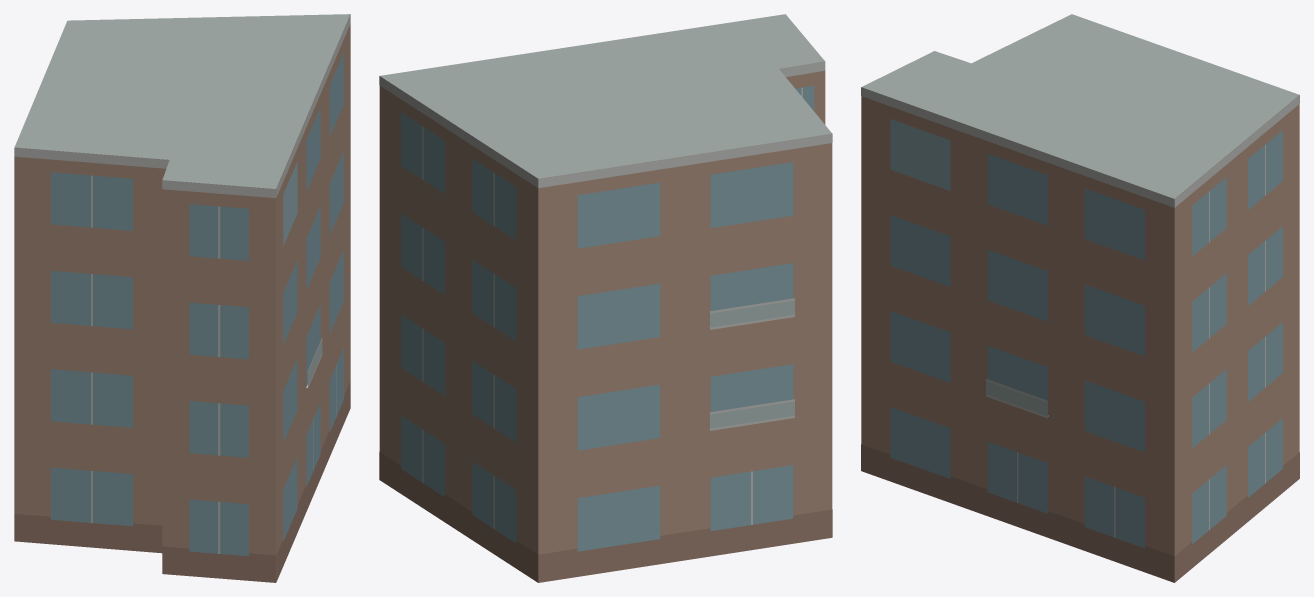
The model's file is survey-upis-32894028.glb.
3 views of the same model, side by side, from view 1: azimuth 30°, elevation 25°; view 2: azimuth 150°, elevation 25°; view 3: azimuth 270°, elevation 25° (orthographic). The views are drawn at different scales.
Parts seen in each view (by area): view 1: survey-upis-32894028.tmp; view 2: survey-upis-32894028.tmp; view 3: survey-upis-32894028.tmp.
Part boxes in pixels (x1,y1,x2,y2): survey-upis-32894028.tmp: [14, 14, 350, 582]; survey-upis-32894028.tmp: [379, 14, 832, 582]; survey-upis-32894028.tmp: [861, 14, 1299, 582].
Size of the model in its own units: 10.86 by 10.5 by 10.88.
